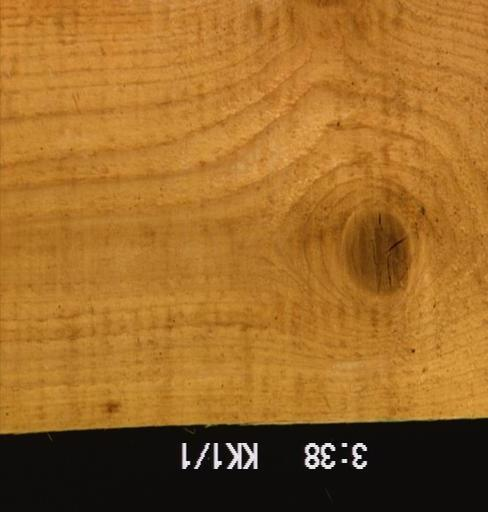sound_knot: (341, 207, 414, 297)
